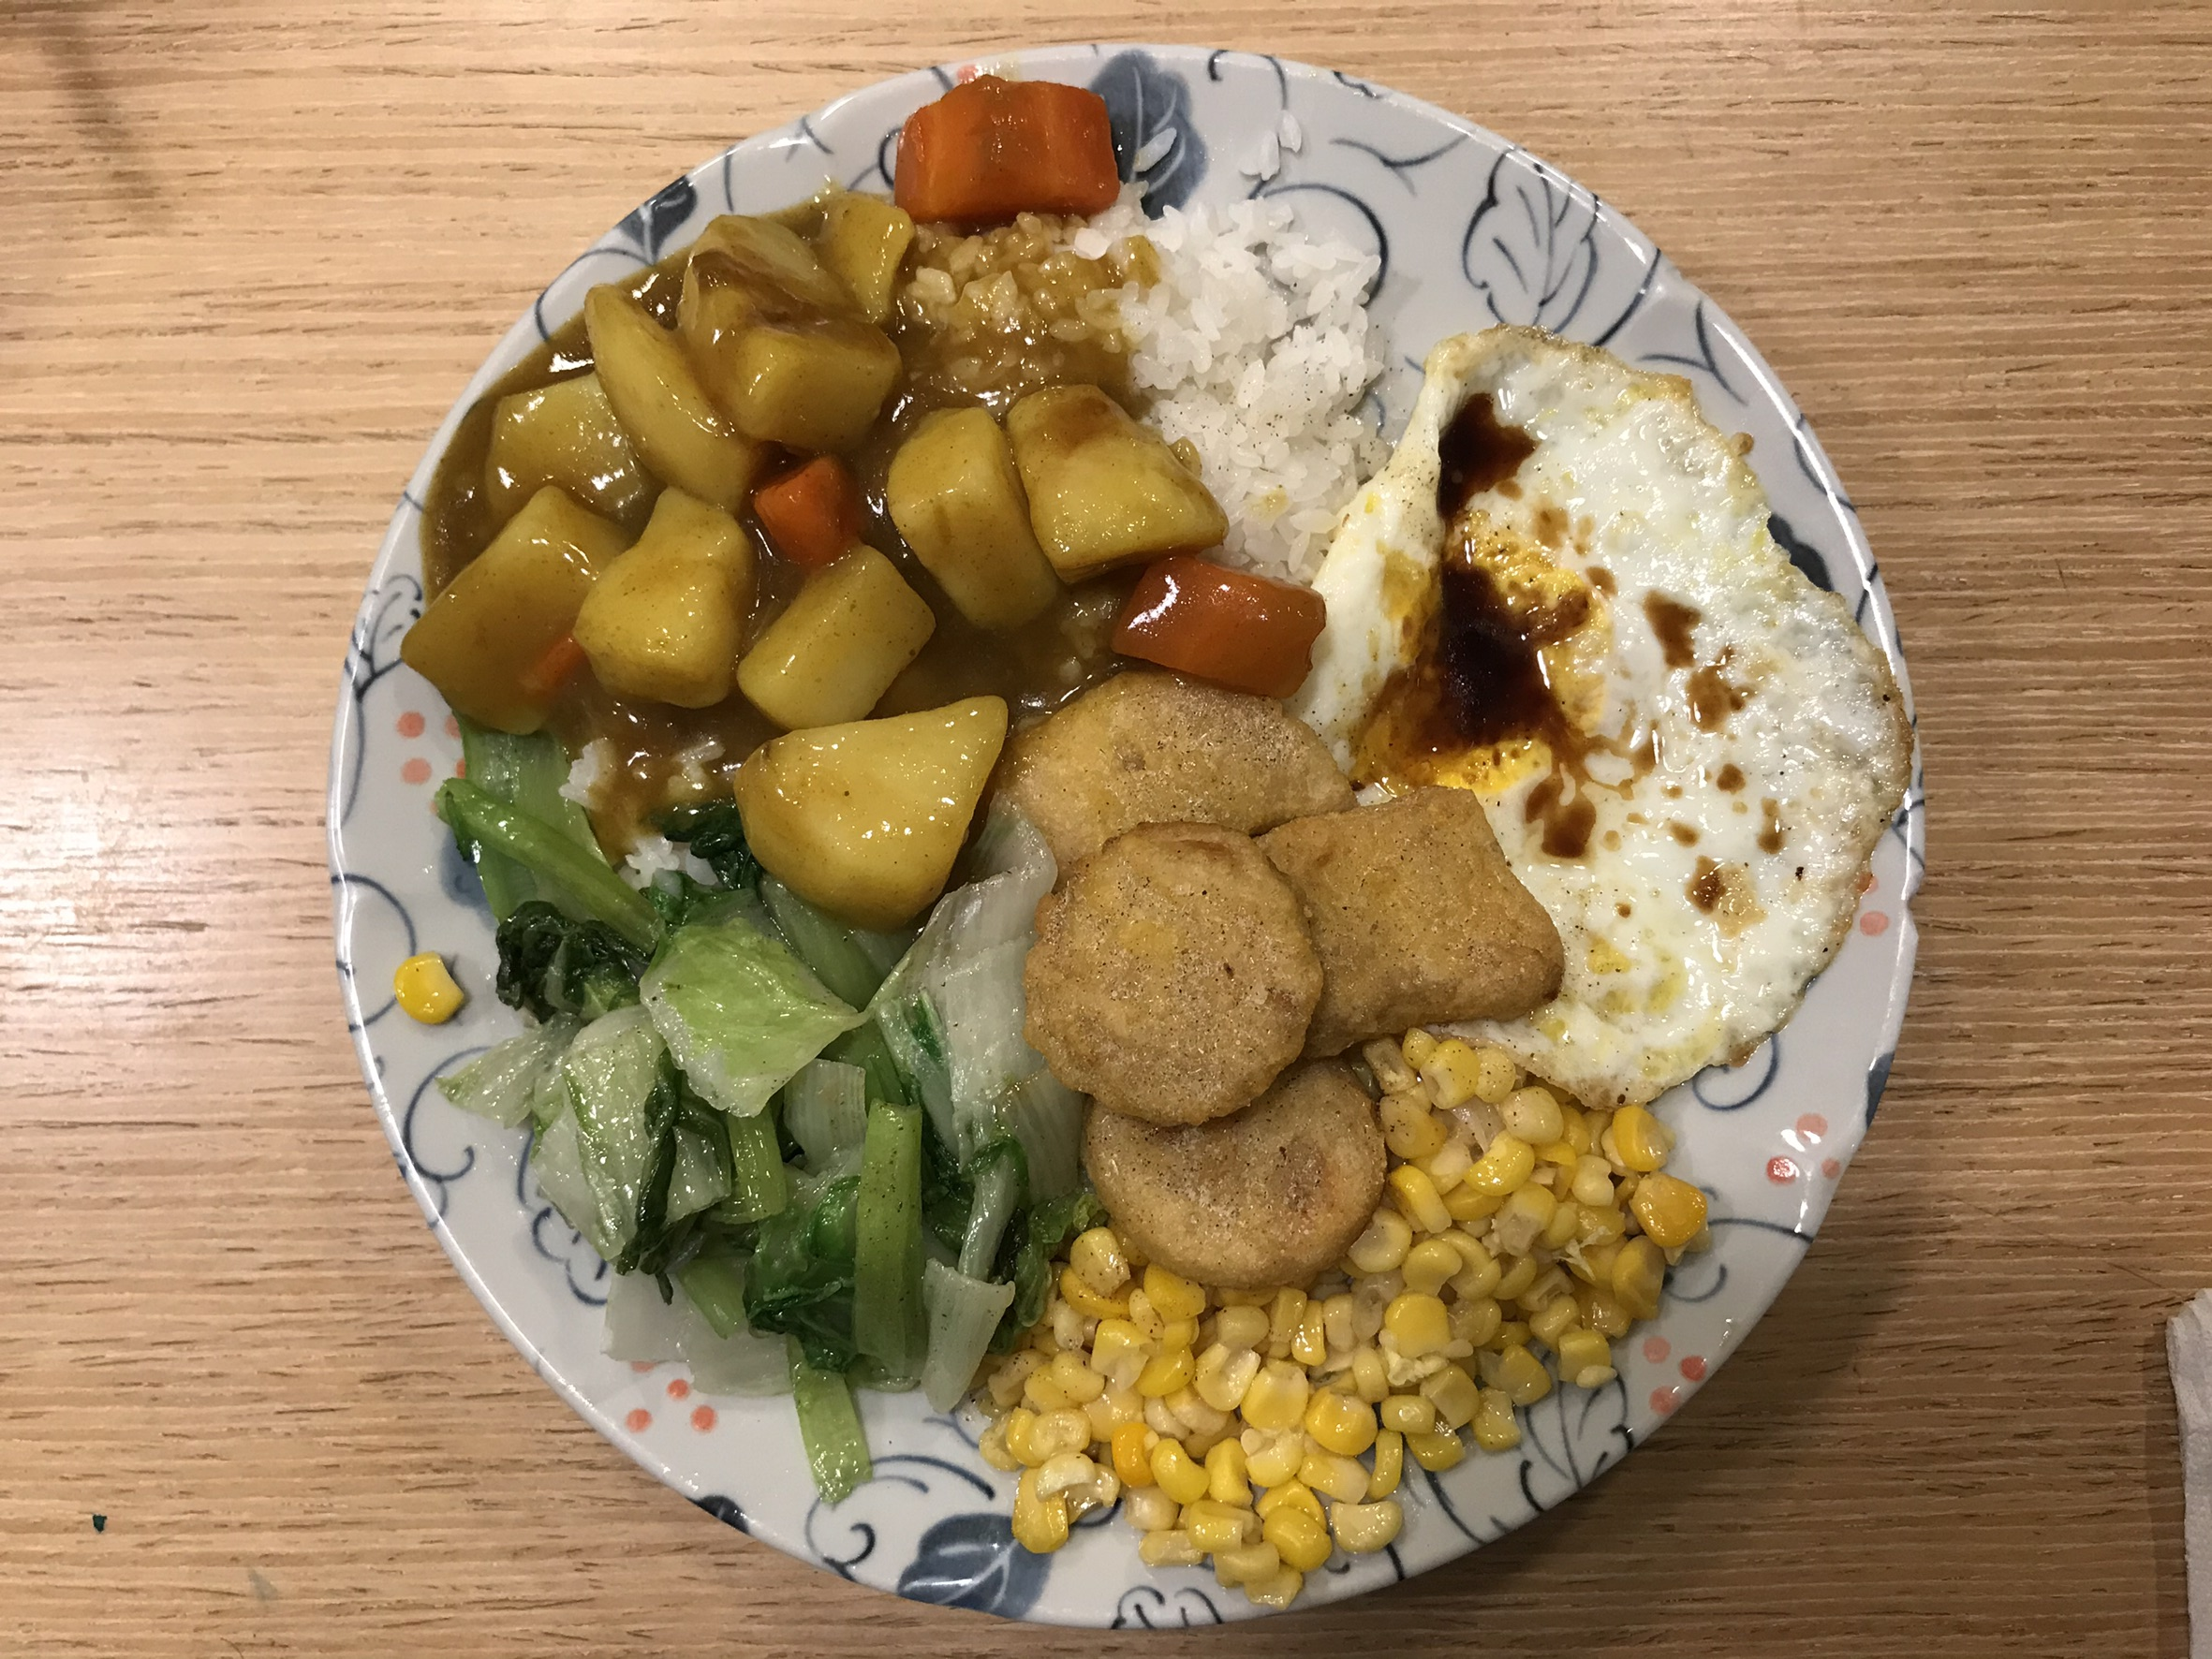chicken_nuggets: (1028, 678, 1562, 1276)
curry: (486, 258, 1074, 774)
fried_eggs: (1381, 324, 1900, 1094)
rice: (1143, 214, 1386, 523)
